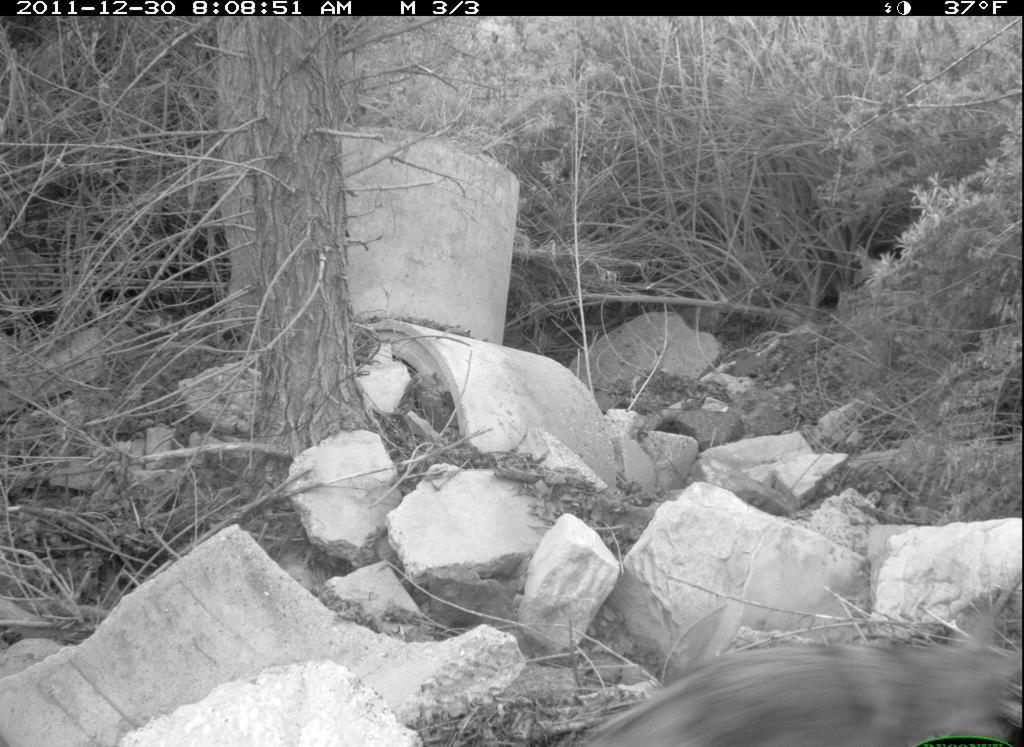coyote: (569, 605, 1019, 747)
